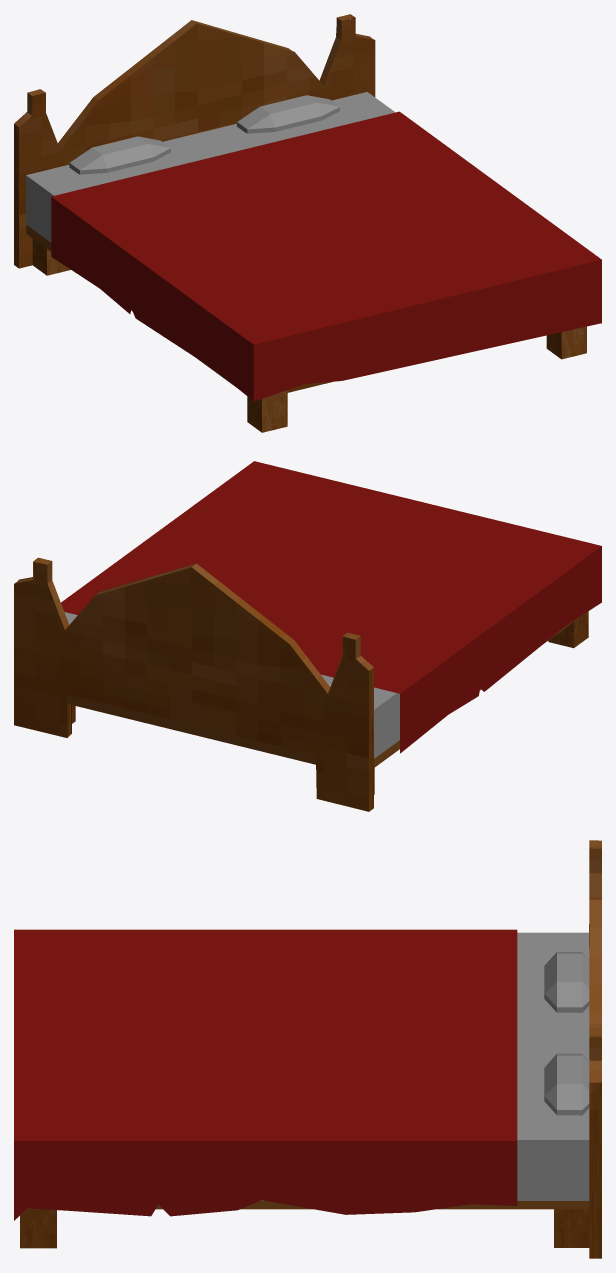
Rendered from 2PersonBed1.glb.
3 views of the same model, one above another, from view 1: azimuth 30°, elevation 25°; view 2: azimuth 150°, elevation 25°; view 3: azimuth 270°, elevation 25° (orthographic). The views are drawn at different scales.
Visible parts, largest first — view 1: Cube.005; view 2: Cube.005; view 3: Cube.005.
Boxes of the visible parts, x1=… form: Cube.005: x1=14, y1=14, x2=601, y2=432; Cube.005: x1=14, y1=461, x2=601, y2=811; Cube.005: x1=14, y1=840, x2=601, y2=1258.
Bounding box in the file's own units: 1.67 × 0.9045 × 1.92.
Materials: 3 (1 with a texture image).
